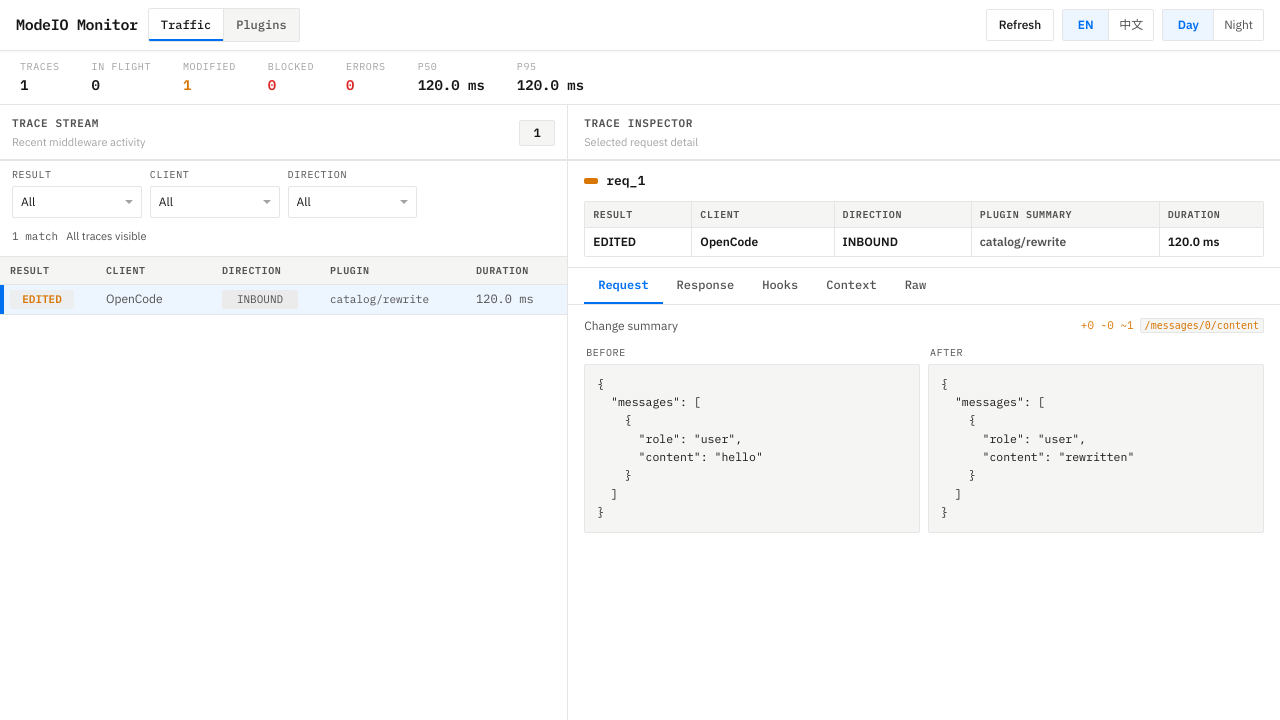
Test: App plugin workspace › disables mutating controls when the plugin config is read-only
Step 1. Click the tab "Plugins" → (261, 25), box [223,9,299,41]
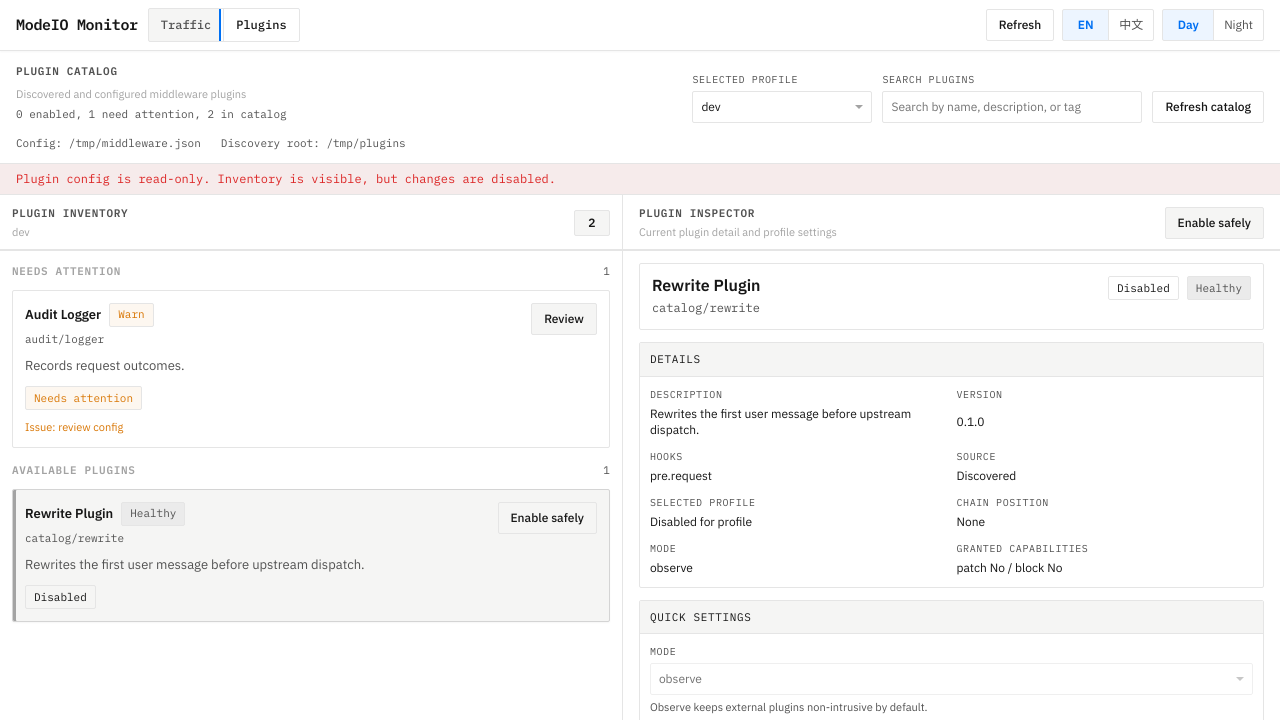
Expected: the text "Plugin config is read-only. Inventory is visible, but changes are disabled." is shown, [0,164,1279,195]
Expected: the 2nd button "Enable safely" is disabled, [498,502,597,534]
